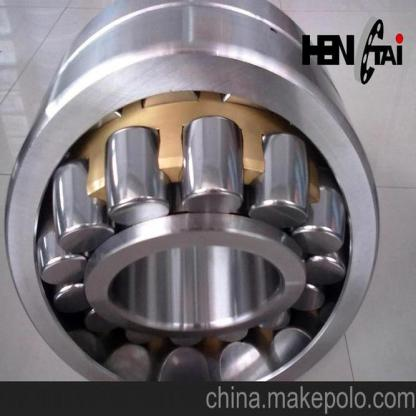FOD: (4, 0, 382, 380)
